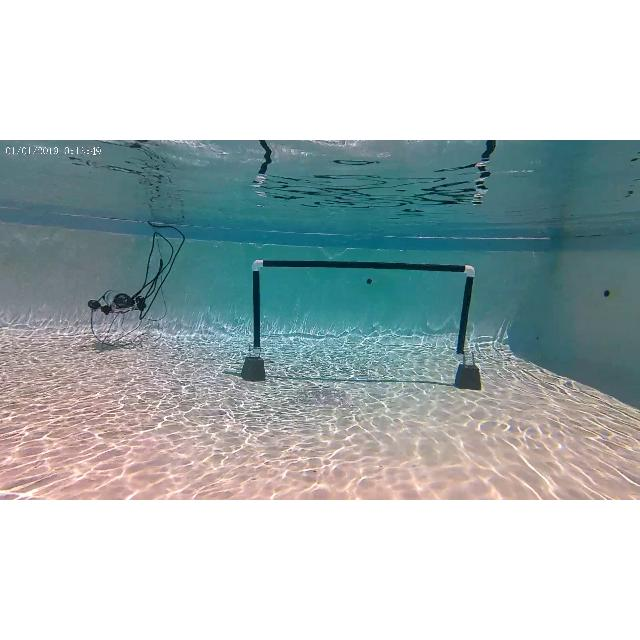prequal gate: (252, 260, 476, 362)
prequal gate leg l: (251, 260, 263, 358)
prequal gate leg r: (453, 263, 475, 361)
